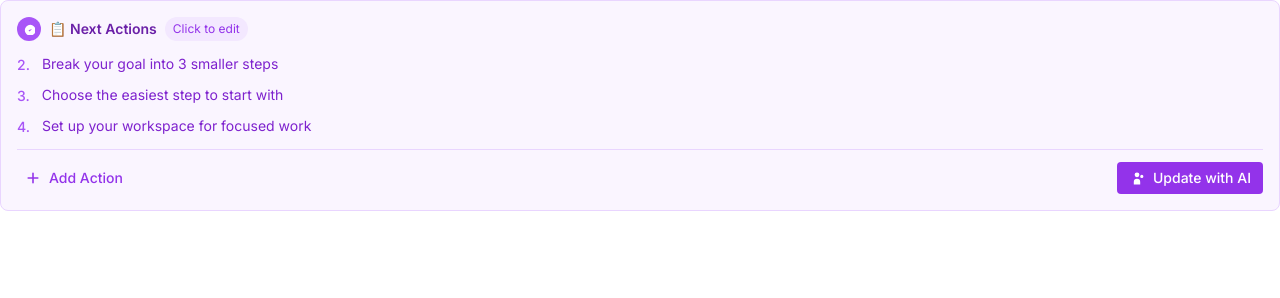
EditableNextActions Integration › handles AI estimation errors gracefully
Click the button "Update with AI".
click(1190, 178)  # box x1=1117 y1=162 x2=1263 y2=194
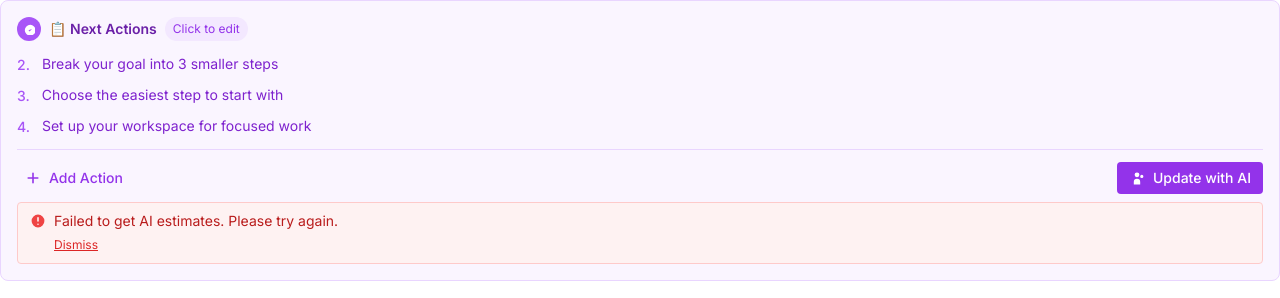
Now the text "Failed to get AI estimates. Please try again." is shown, box x1=54 y1=212 x2=338 y2=229
Note: Check that error can be dismissed
Click the button "Dismiss".
click(76, 245)  # box x1=54 y1=237 x2=98 y2=253
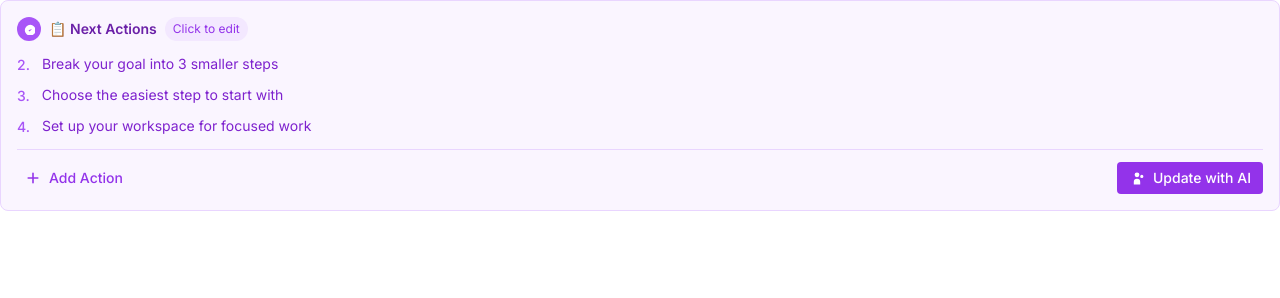
Now the text "Failed to get AI estimates. Please try again." is gone
